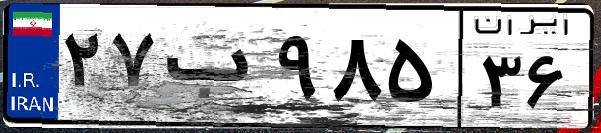2: (57, 26, 110, 100)
3: (475, 38, 525, 113)
5: (385, 28, 445, 110)
6: (525, 38, 570, 115)
7: (110, 28, 158, 98)
8: (330, 28, 385, 110)
9: (270, 28, 330, 110)
ب: (158, 20, 270, 120)
